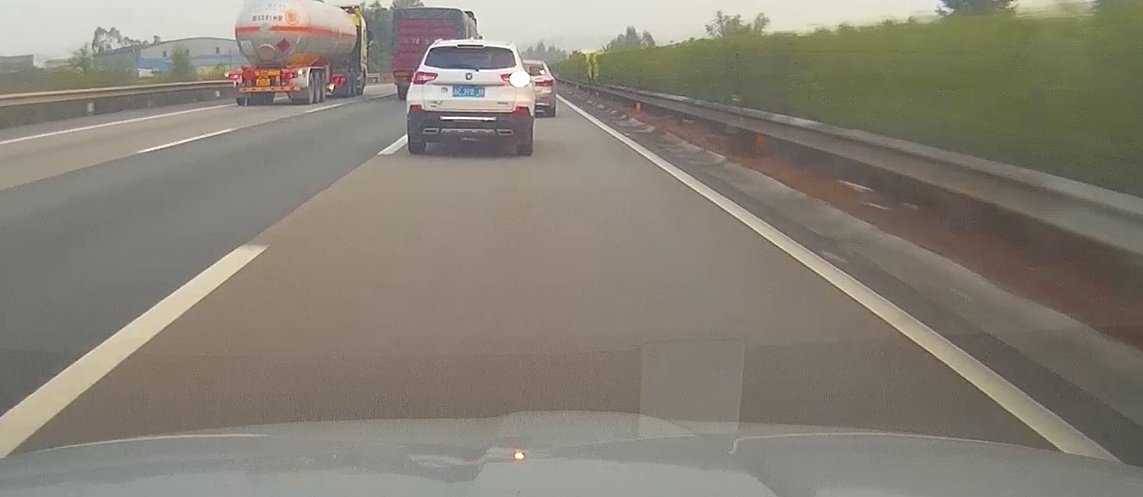L_light: (412, 71, 438, 85), (231, 75, 240, 79)
R_light: (500, 70, 530, 87), (286, 73, 297, 78)
T_light: (456, 43, 484, 48), (260, 68, 268, 72)
day-brake: (224, 67, 310, 105)
day-right: (407, 39, 535, 156)
